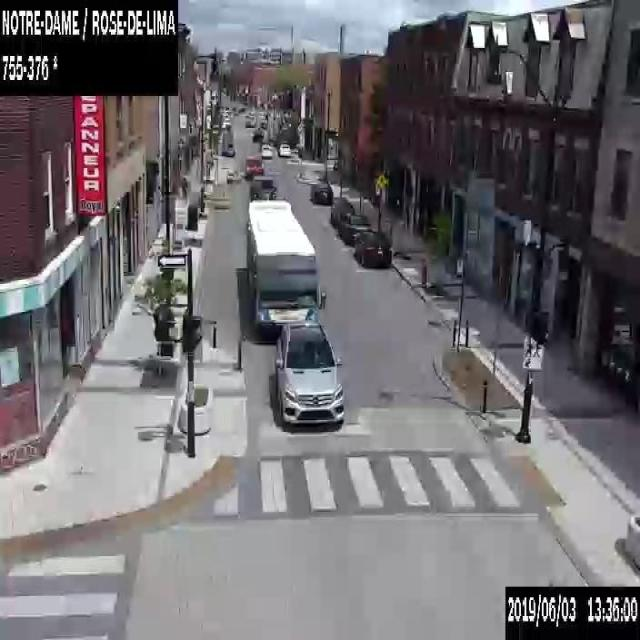bus: (246, 199, 326, 333)
vehicle: (274, 321, 344, 429), (352, 230, 391, 267), (337, 212, 371, 242), (330, 196, 355, 226), (248, 176, 276, 200), (310, 181, 332, 204), (244, 154, 263, 176), (220, 142, 235, 156), (250, 126, 262, 142), (278, 143, 290, 154), (261, 144, 271, 156), (220, 118, 230, 128), (244, 116, 253, 126)
